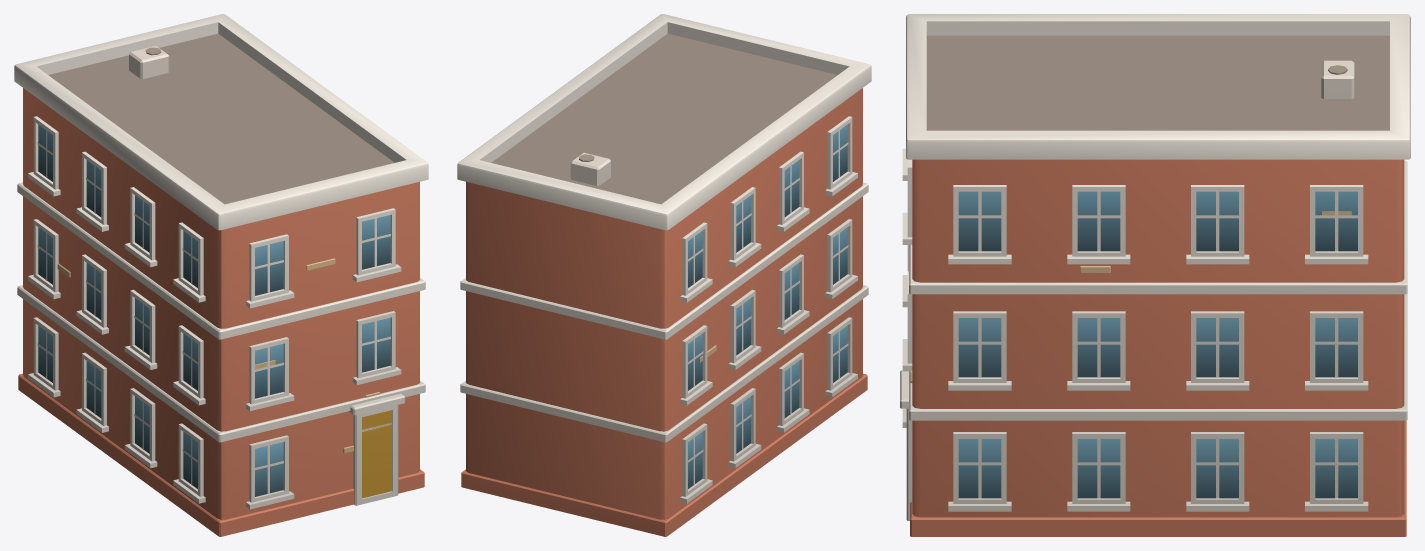
The model's file is beacon_n3.glb.
3 views of the same model, side by side, from view 1: azimuth 30°, elevation 25°; view 2: azimuth 150°, elevation 25°; view 3: azimuth 270°, elevation 25° (orthographic). The views are drawn at different scales.
Visible parts, largest first — view 1: beacon_n3; view 2: beacon_n3; view 3: beacon_n3.
Boxes of the visible parts, x1,y1,x2,y2 form: beacon_n3: (14,14,428,536); beacon_n3: (457,14,871,536); beacon_n3: (900,14,1410,536).
Bounding box in the file's own units: 7.48 × 11.03 × 12.46.
1 material, 1 textured.
